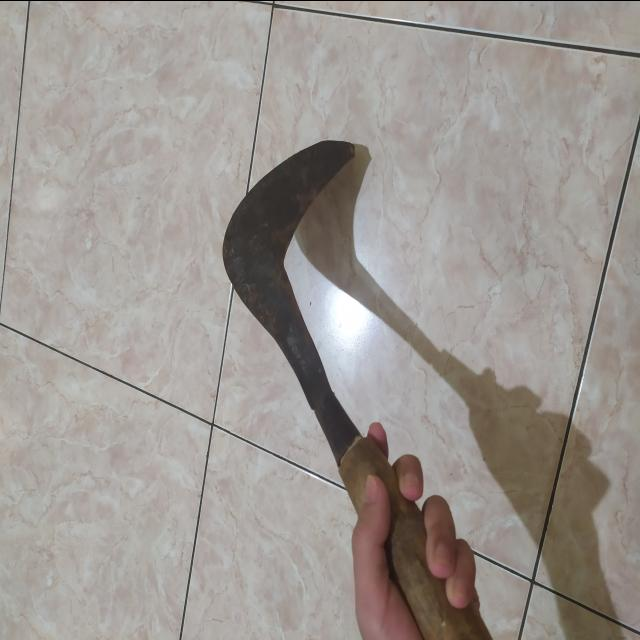Celurit: (218, 137, 487, 640)
